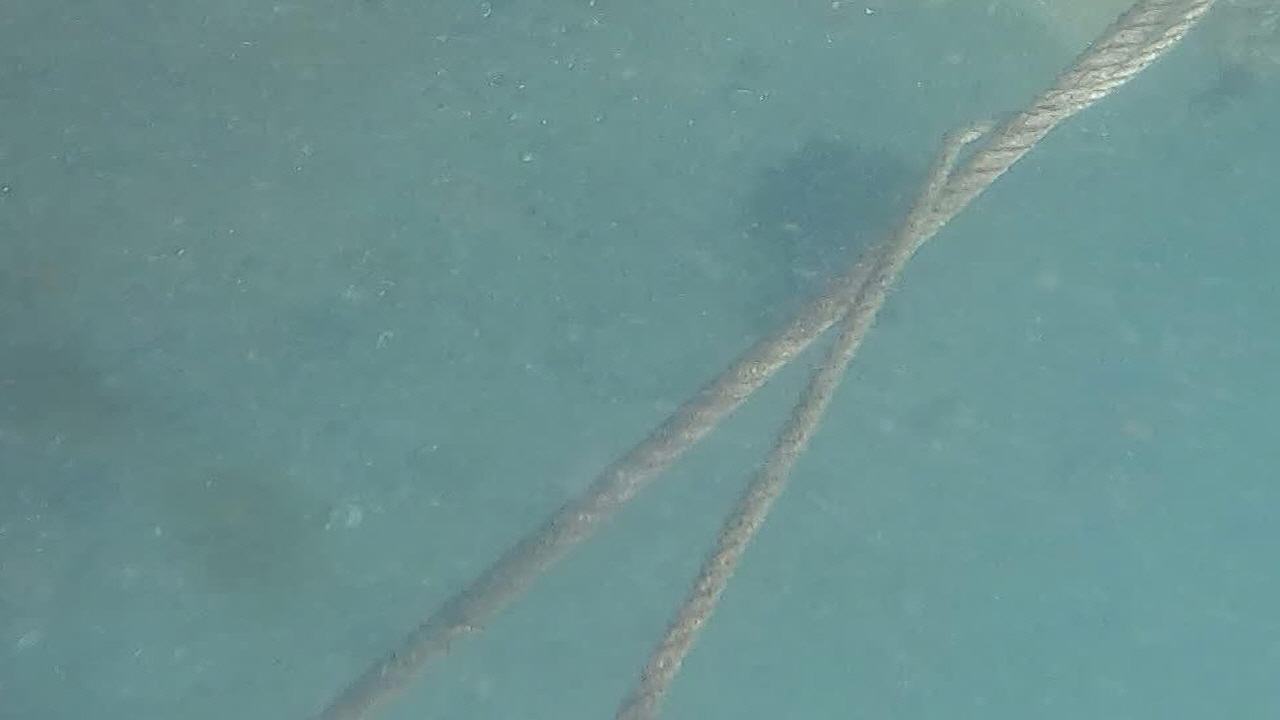bundle of ropes: (307, 0, 1222, 720)
